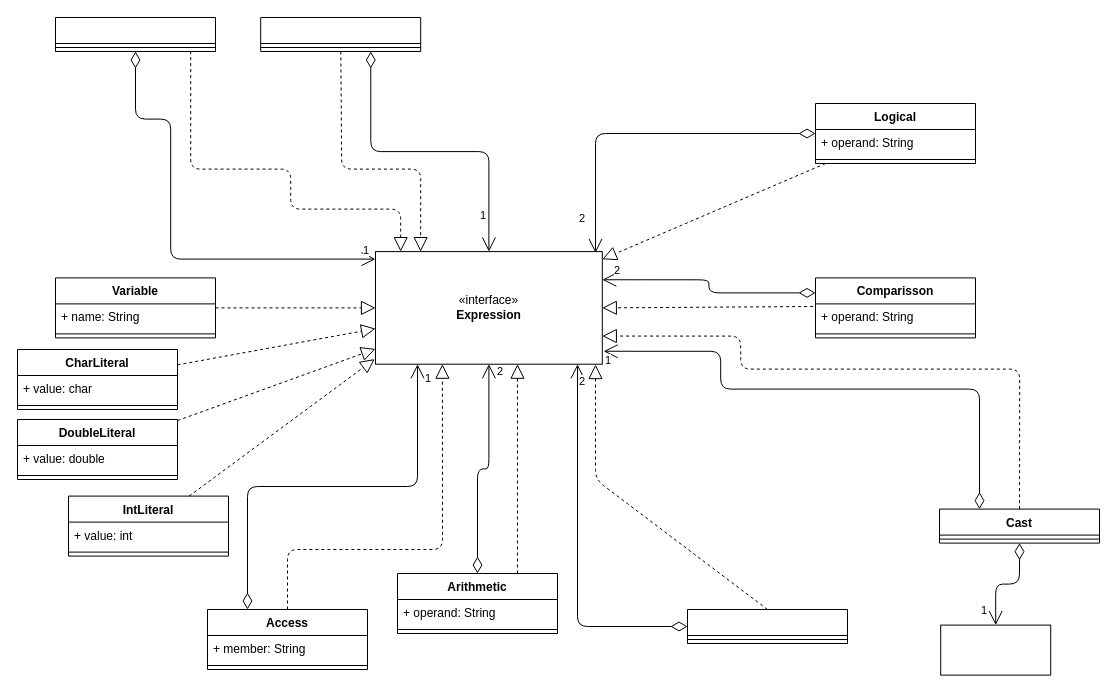
Image size: 1117x693. Some labels were removed from this diagram. Each missing label, with the centre of its shape:
"Indexing" belongs at pixel 767 626.
"UnaryMinus" belongs at pixel 340 34.
"UnaryNot" belongs at pixel 135 34.
"«interface» Type" belongs at pixel 995 649.
